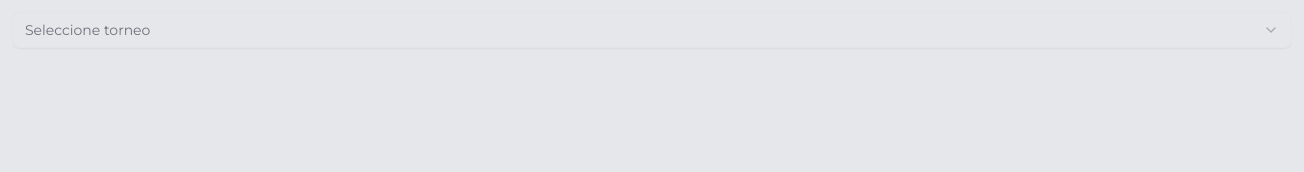
Test: Tests on <TournamentsSelector /> › Should not show "Sin torneo" when includeNoTournament is false
This screenshot has width=1304, height=172.
Click the dropdown at (88, 30), box [12,12,1292,48]
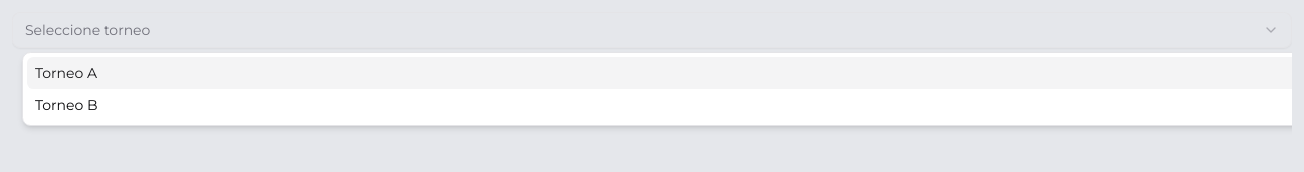
Now the text "Torneo A" is shown, box [35,63,97,83]
